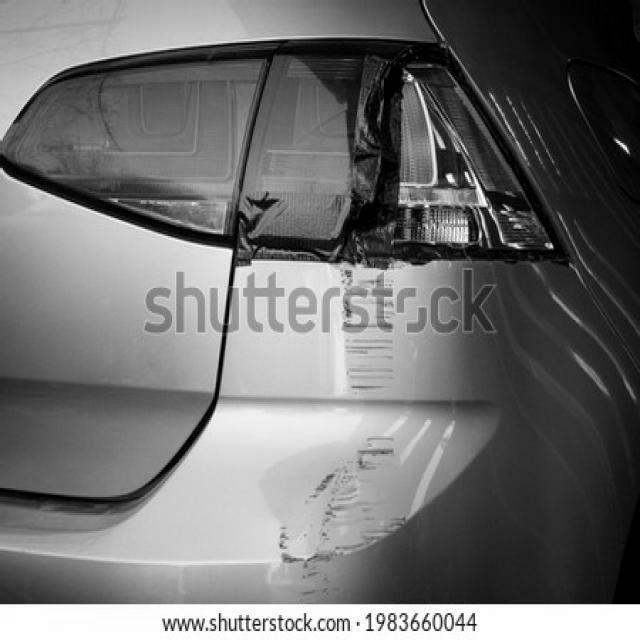Taillight-Damage: (238, 28, 512, 289)
rear-bumper-dent: (263, 189, 500, 596)
